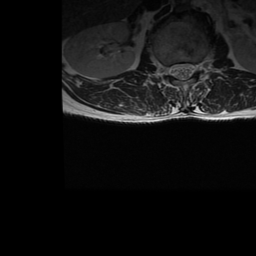CCS_normal: (179, 54, 187, 86)
LFS_normal: (194, 52, 203, 79)
LLS_normal: (187, 53, 194, 82)
RFS_normal: (162, 55, 170, 83)
RLS_normal: (170, 54, 179, 84)
